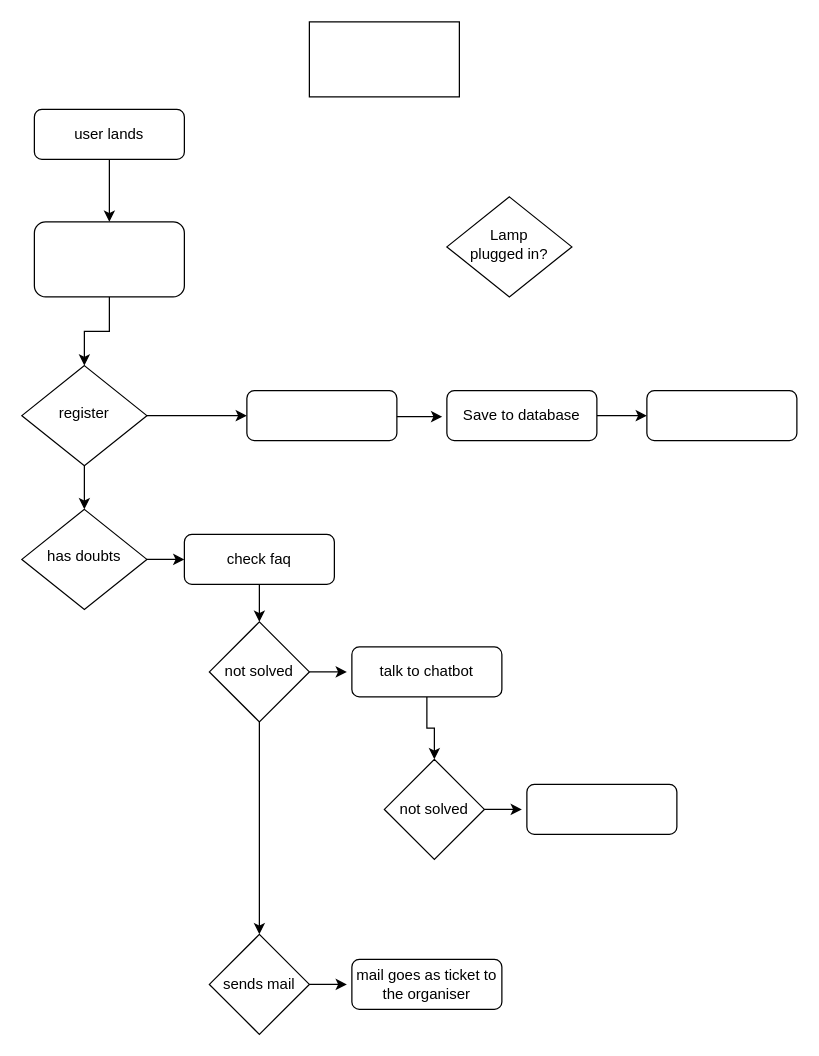
The diagram is 819 pixels wide and 1056 high, and some of its shapes have lost their labels. The shapes that lost their labels are listed below. From the top down, each one's centre as x and y in pixels, then its label:
At [383,59]: "Website flow".
At [108,259]: "user sees details".
At [321,415]: "Take detatils".
At [721,415]: "Mail".
At [601,808]: "raise ticket".
